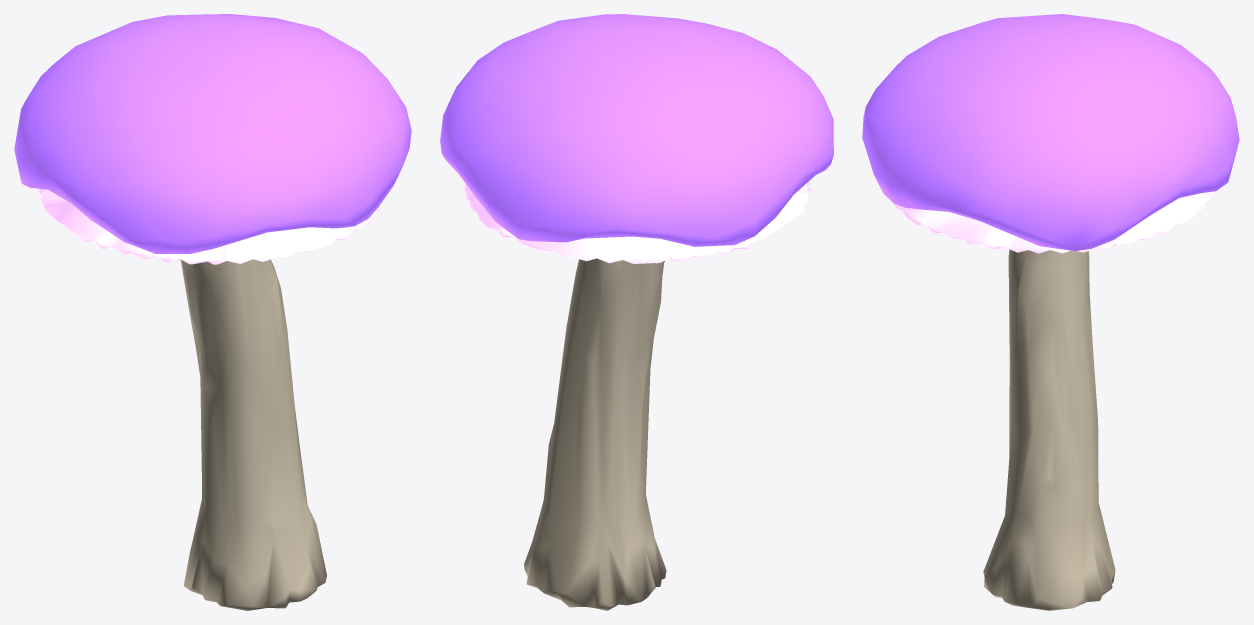
File: glade_mushroom_violet_lod1.glb
The picture shows the model from 3 angles, left to right: view 1: azimuth 30°, elevation 25°; view 2: azimuth 150°, elevation 25°; view 3: azimuth 270°, elevation 25°; orthographic projection. The views are drawn at different scales.
Visible parts, largest first — view 1: glade_mushroom_violet.001; view 2: glade_mushroom_violet.001; view 3: glade_mushroom_violet.001.
Part boxes in pixels (<box>): glade_mushroom_violet.001: <box>14,14,411,610</box>; glade_mushroom_violet.001: <box>440,14,833,610</box>; glade_mushroom_violet.001: <box>862,14,1239,610</box>.
Size of the model in its own units: 8.38 by 13.01 by 8.41.
